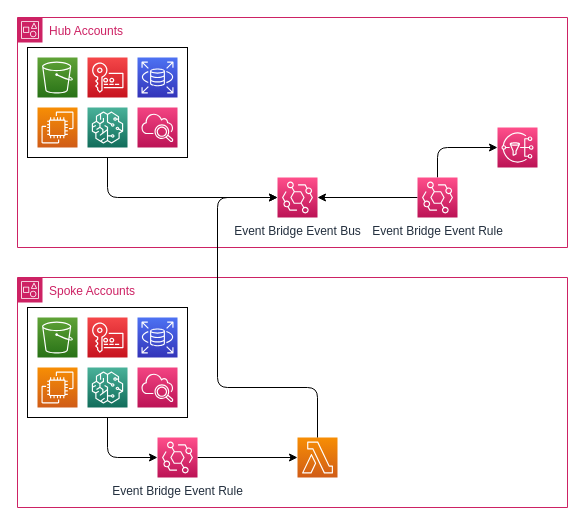
Image size: 585x525. Some labels were removed from this diagram. Each missing label, with the box of its shape:
AWS Lambda Filter: (296, 436, 338, 478)
AWS SNS Topic: (496, 126, 538, 168)
